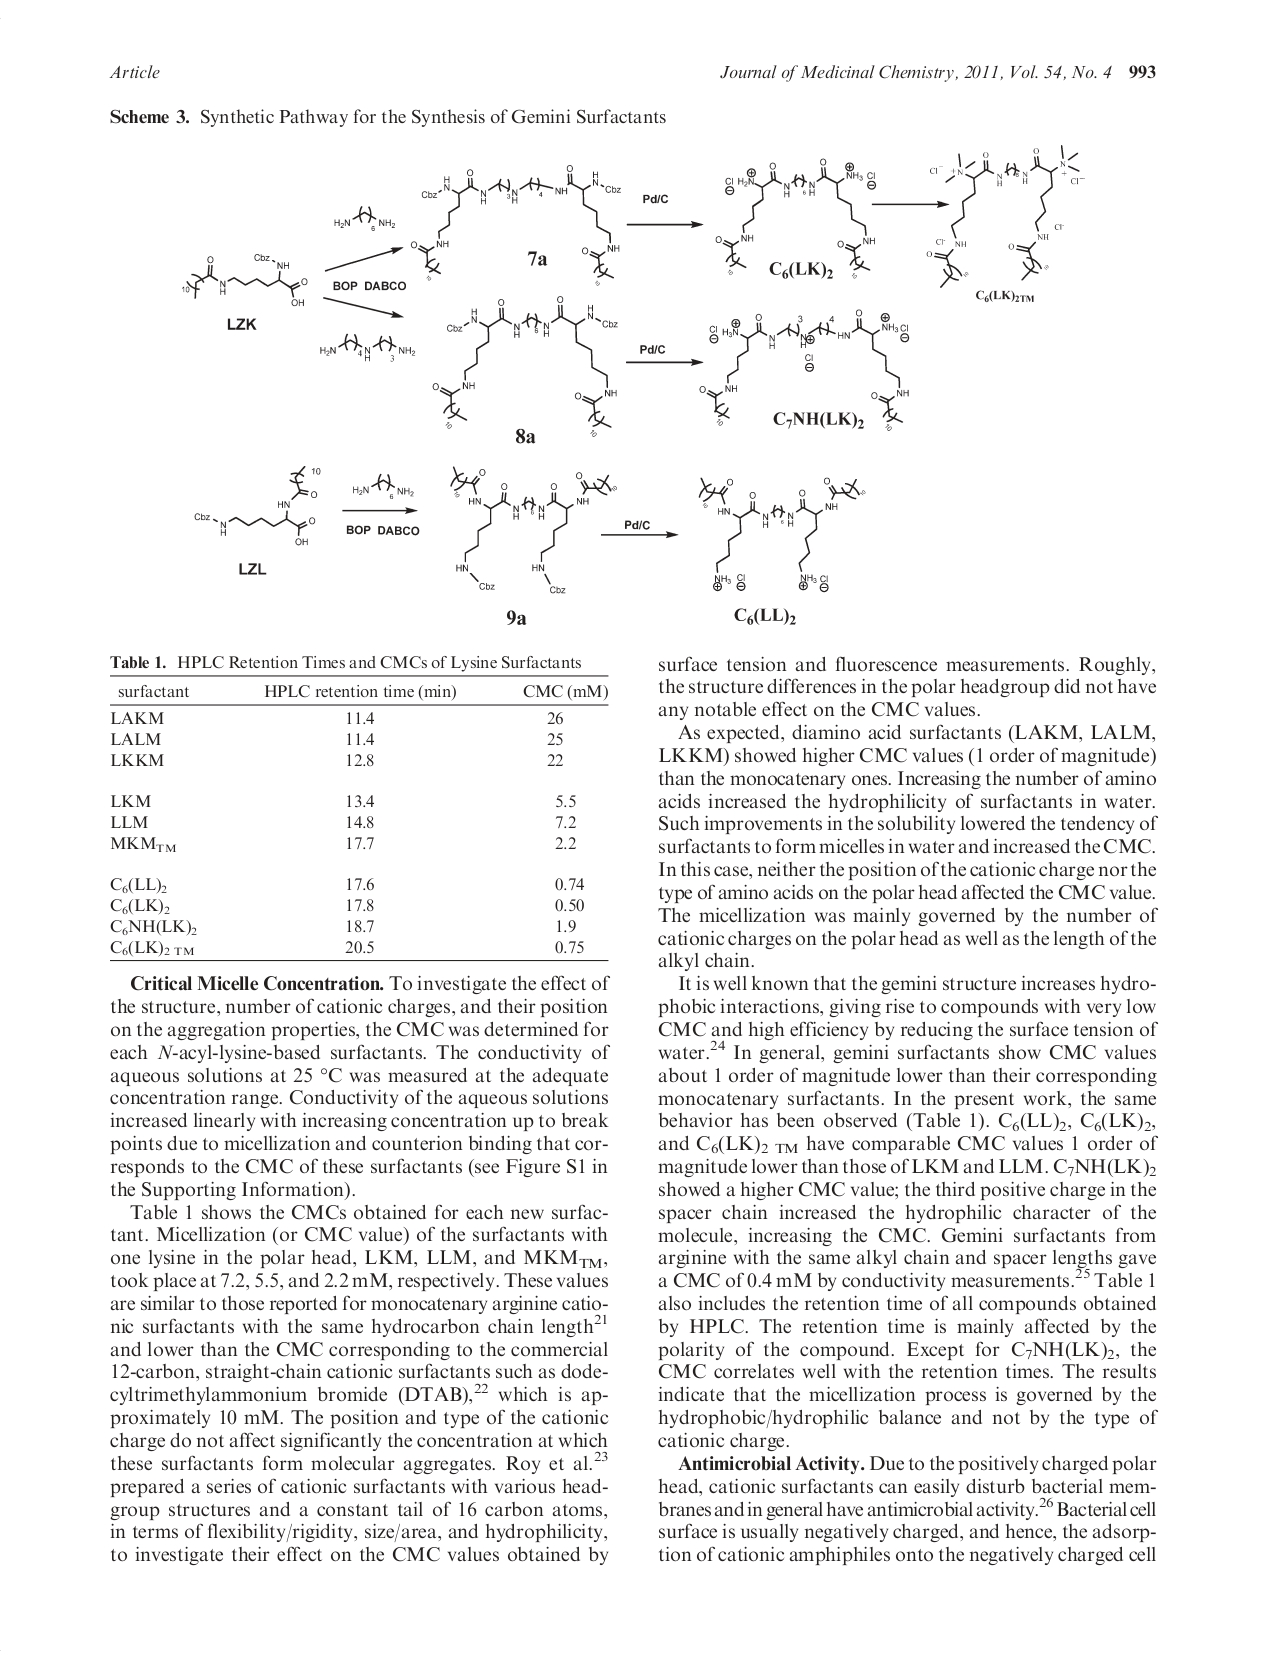exist_molecular: (430, 294, 622, 443), (406, 165, 628, 289), (696, 306, 912, 431), (442, 459, 618, 598), (920, 144, 1090, 289), (690, 469, 868, 594), (711, 157, 880, 282), (189, 460, 324, 549), (180, 246, 309, 309), (316, 324, 418, 364), (331, 194, 398, 234), (346, 465, 418, 501)
